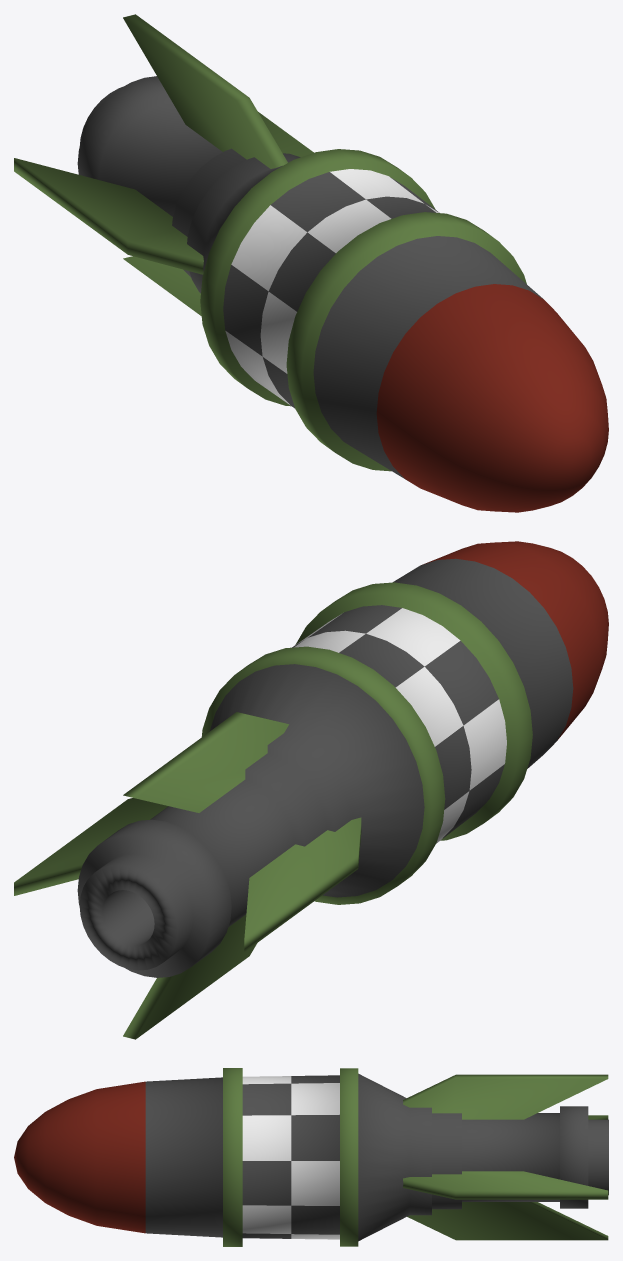
Rendered from Projectile.glb.
The picture shows the model from 3 angles, top to bottom: view 1: azimuth 30°, elevation 25°; view 2: azimuth 150°, elevation 25°; view 3: azimuth 270°, elevation 25°; orthographic projection. The views are drawn at different scales.
Visible parts, largest first — view 1: Sphere; view 2: Sphere; view 3: Sphere.
Part boxes in pixels (x1,y1,x2,y2): Sphere: (14,14,608,512); Sphere: (14,541,608,1039); Sphere: (14,1068,608,1246).
Bounding box in the file's own units: 0.3679 × 0.3679 × 1.22.
